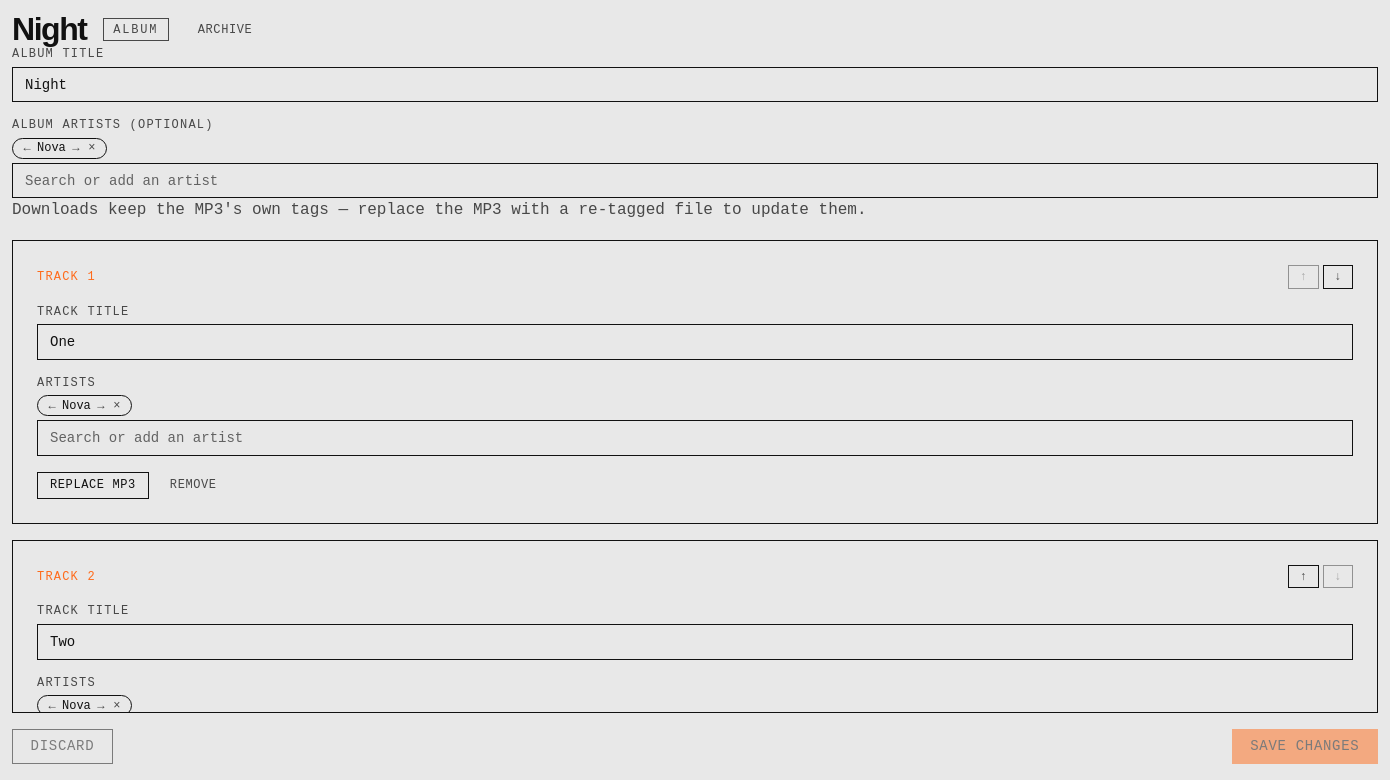
Test: EditReleaseForm › locks instant actions while the draft is dirty, and Discard unlocks
Type "!" into the field labelled "Album title" at coordinates (695, 85), box [12, 67, 1378, 102]
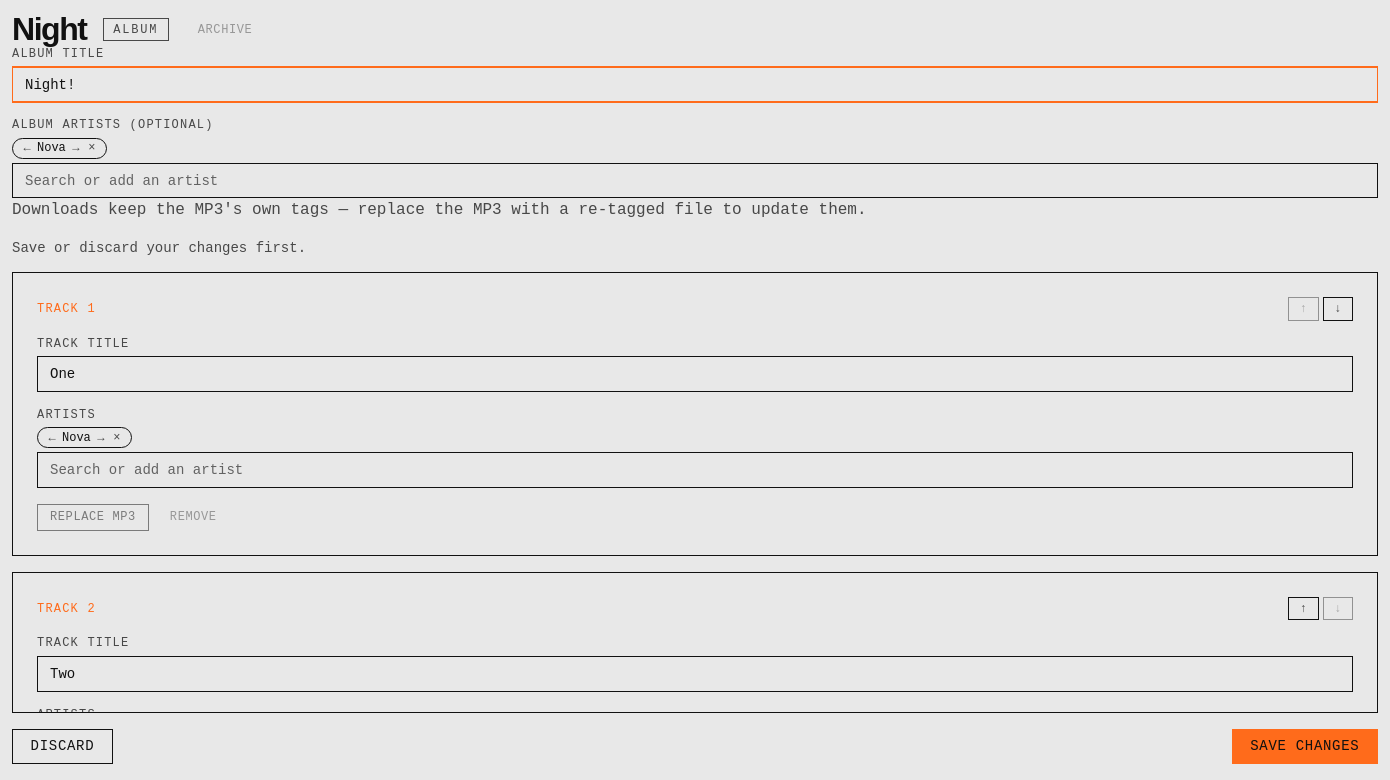
Expected: the text "Save or discard your changes first." is shown, [12, 240, 306, 256]
Expected: the button "Remove" is disabled, [157, 504, 230, 531]
Click the button "Discard" at coordinates (62, 746), box [12, 728, 113, 764]
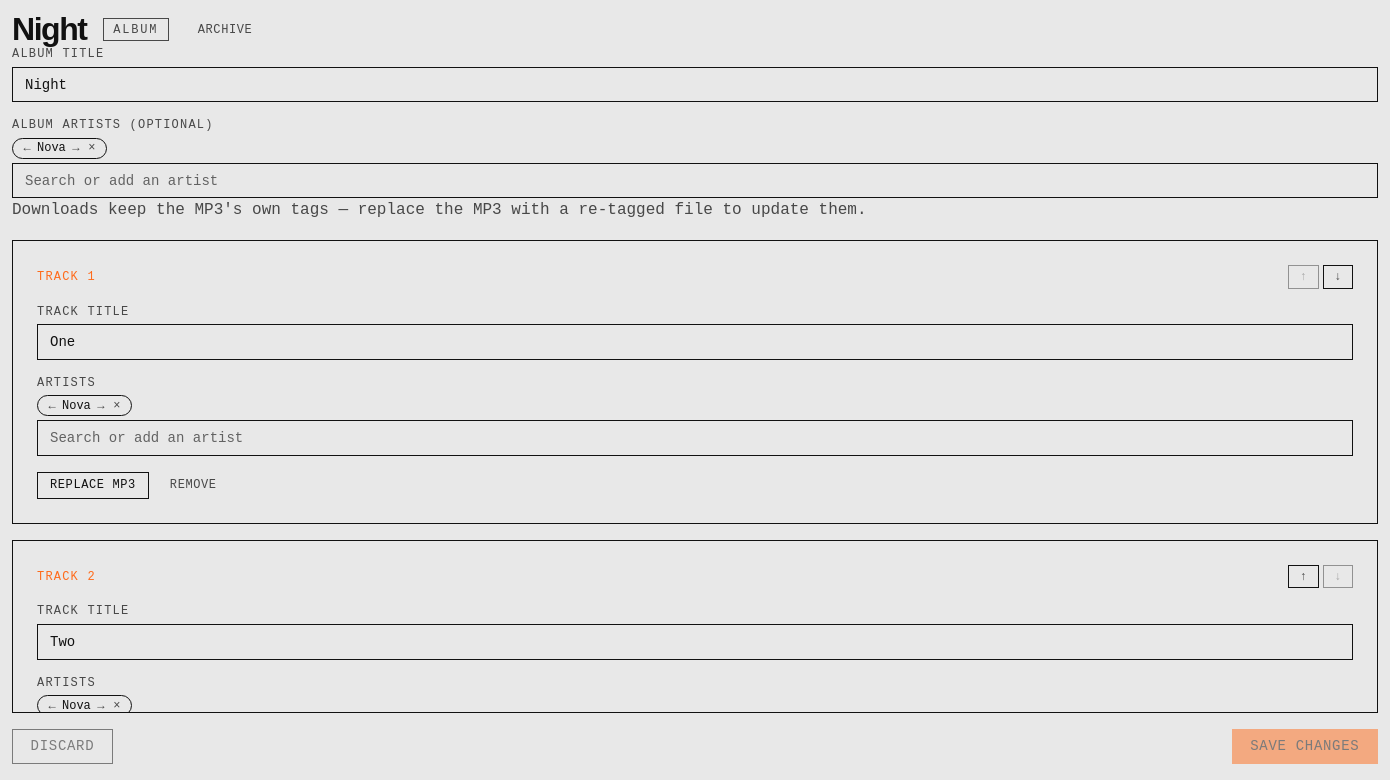
Expected: the field labelled "Album title" holds "Night", [12, 67, 1378, 102]
Expected: the button "Remove" is enabled, [157, 472, 230, 499]
